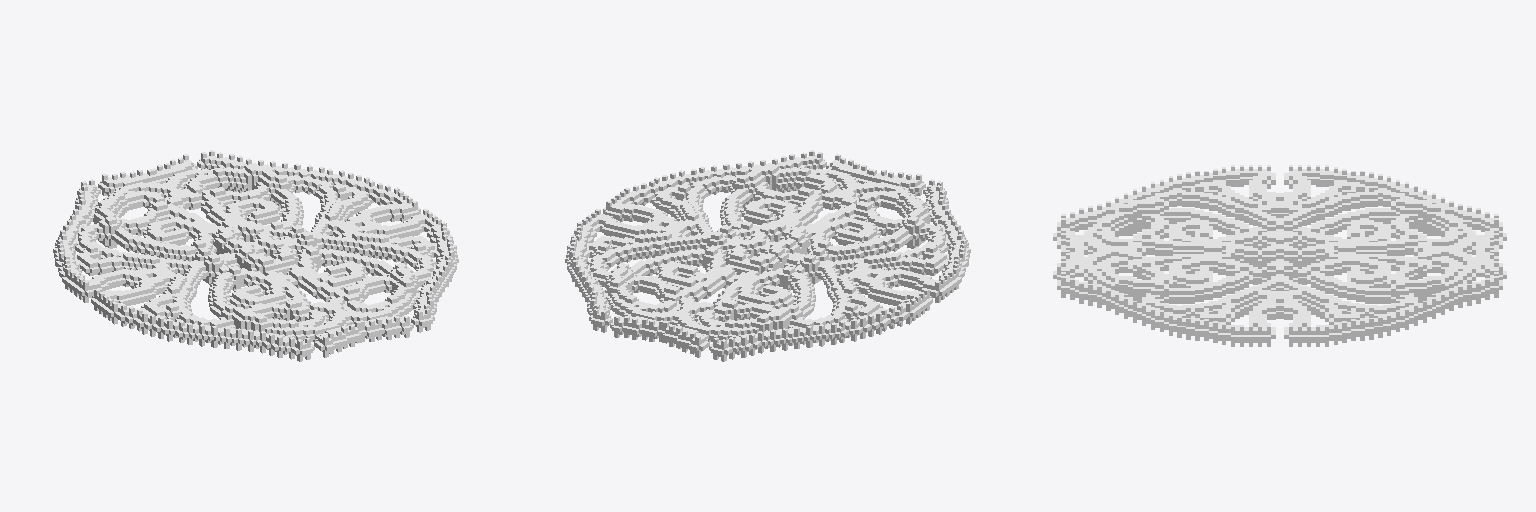
The model's file is SHIP_SYMBOL.obj.
3 views of the same model, side by side, from view 1: azimuth 30°, elevation 25°; view 2: azimuth 150°, elevation 25°; view 3: azimuth 270°, elevation 25° (orthographic).
Size of the model in its own units: 88 by 7 by 102.